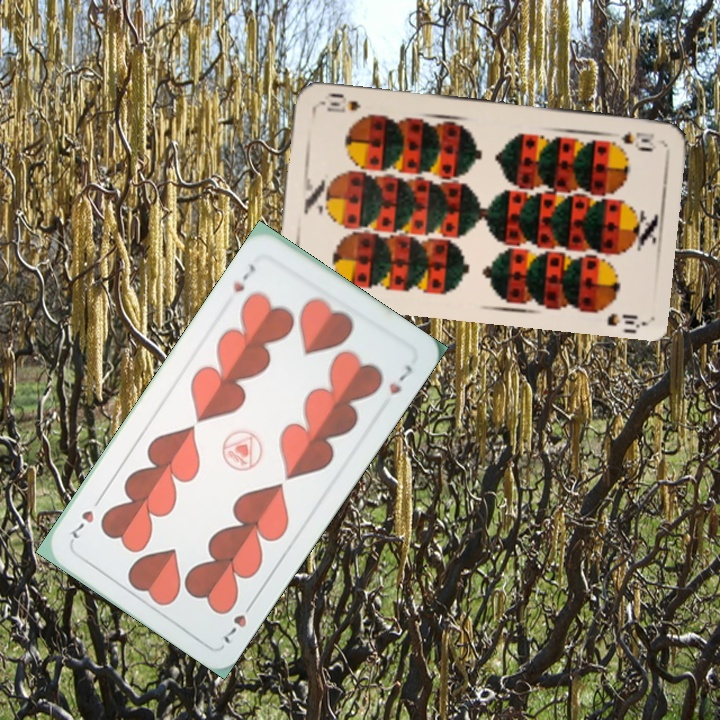H7: (219, 595, 258, 647), (228, 260, 259, 295)
S10: (617, 126, 657, 146)
